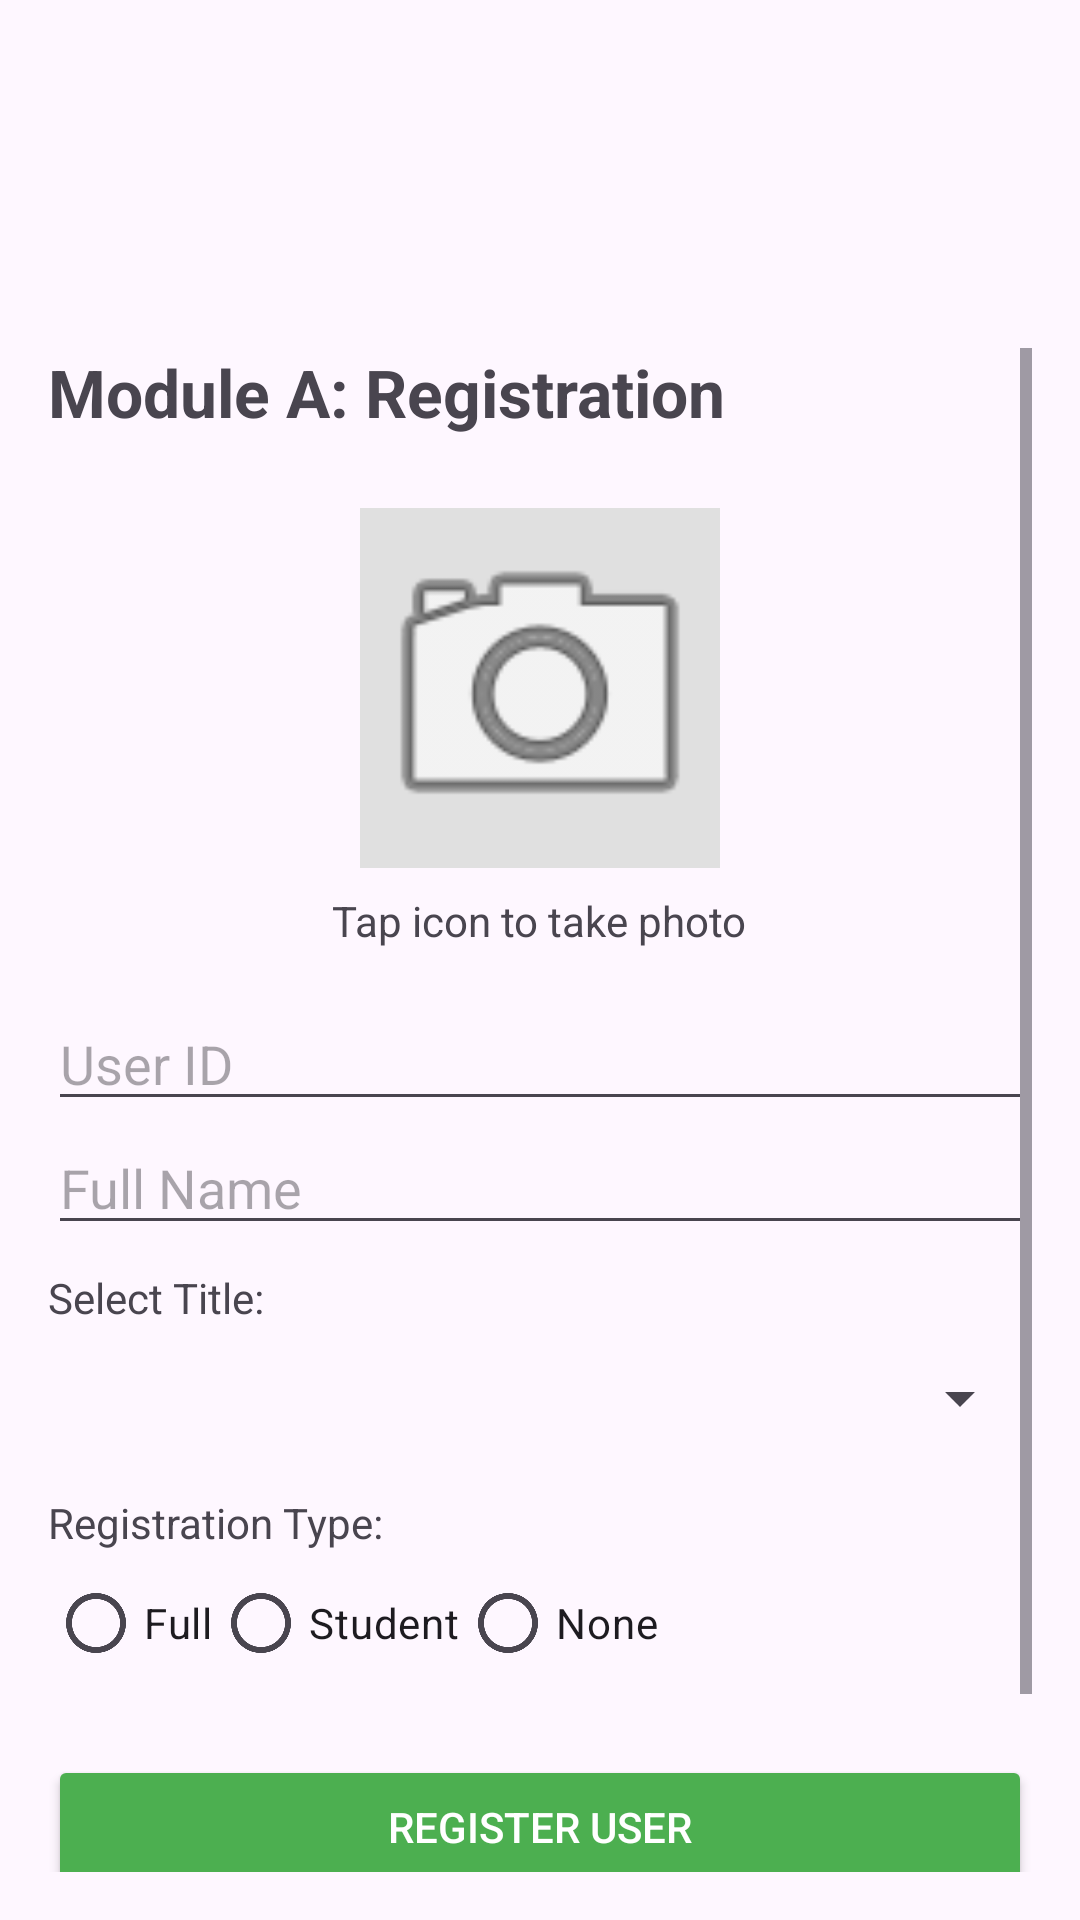

Icon click points for this 1080x1920 phone screenshot, format point (x, y):
camera: point (540, 688)
